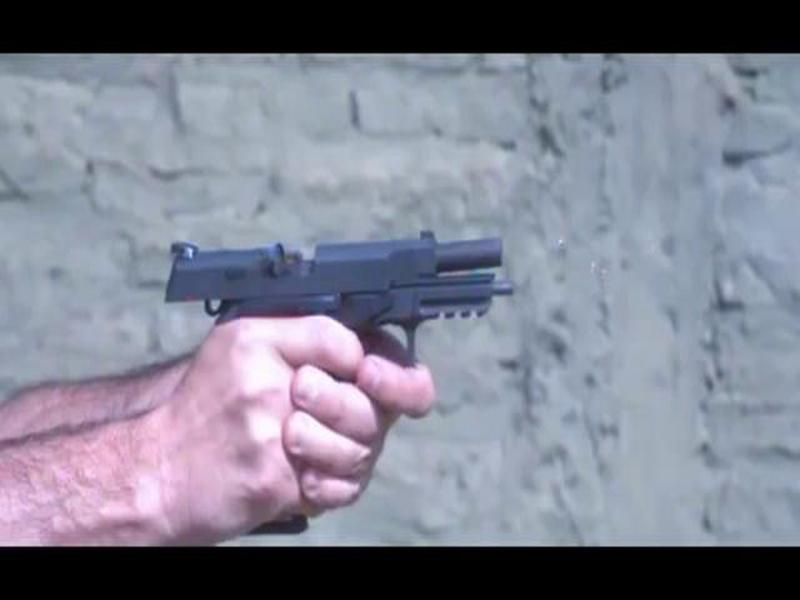Pistola: (156, 227, 529, 442)
